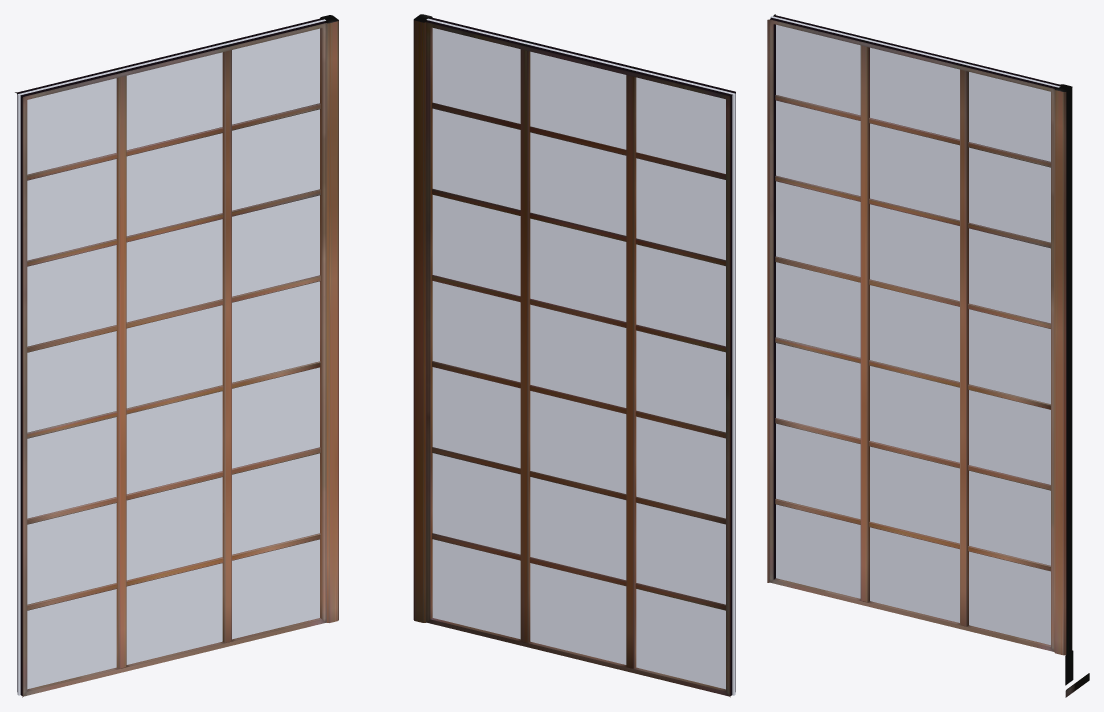
The model's file is zen-tea-house.glb.
The picture shows the model from 3 angles, left to right: view 1: azimuth 30°, elevation 25°; view 2: azimuth 150°, elevation 25°; view 3: azimuth 330°, elevation 25°; orthographic projection. The views are drawn at different scales.
Parts seen in each view (by area): view 1: Object_30, Object_11; view 2: Object_30, Object_11; view 3: Object_30, Object_11.
Boxes of the visible parts, x1,y1,x2,y2 form: Object_30: [17, 19, 325, 695]; Object_11: [15, 15, 338, 697]; Object_30: [426, 18, 735, 695]; Object_11: [413, 14, 735, 697]; Object_30: [770, 16, 1060, 644]; Object_11: [767, 14, 1089, 697].
Bounding box in the file's own units: 1.59 × 2.89 × 0.2121.
2 materials, 1 textured.
